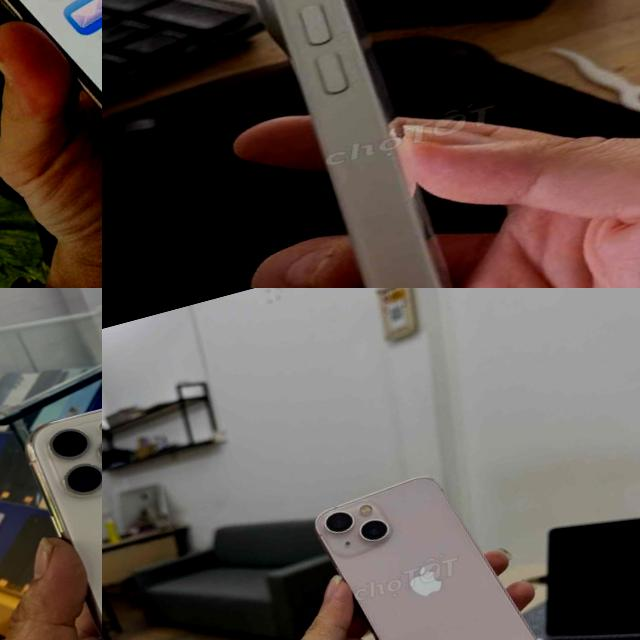gen_11: (25, 408, 102, 634)
gen_12_13: (304, 458, 550, 640)
gen_16: (0, 0, 102, 288)
gen_17: (188, 0, 586, 288)
